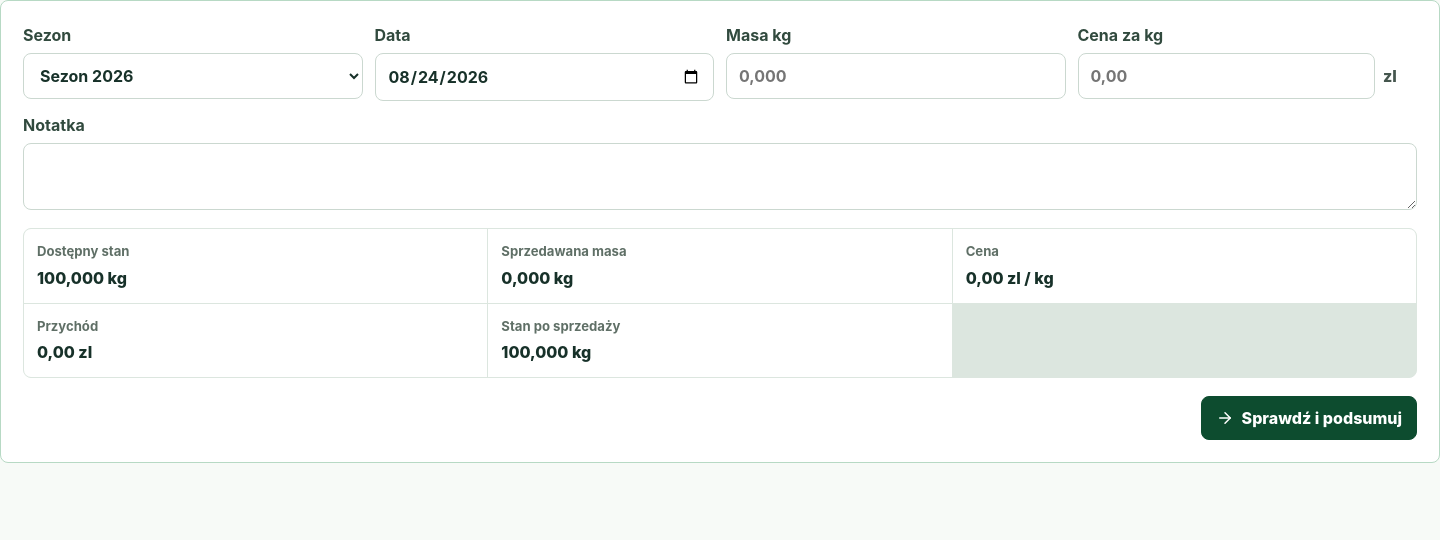
OrdinarySaleForm › shows current and live projected sale values
Expected: the text "100,000 kg" is shown 2 times, [37, 268, 127, 288]; [501, 342, 591, 362]
Expected: the text "0,000 kg" is shown, [501, 268, 573, 288]
Type "12,345" into the field labelled "Masa kg" at (896, 76), box [726, 53, 1066, 99]
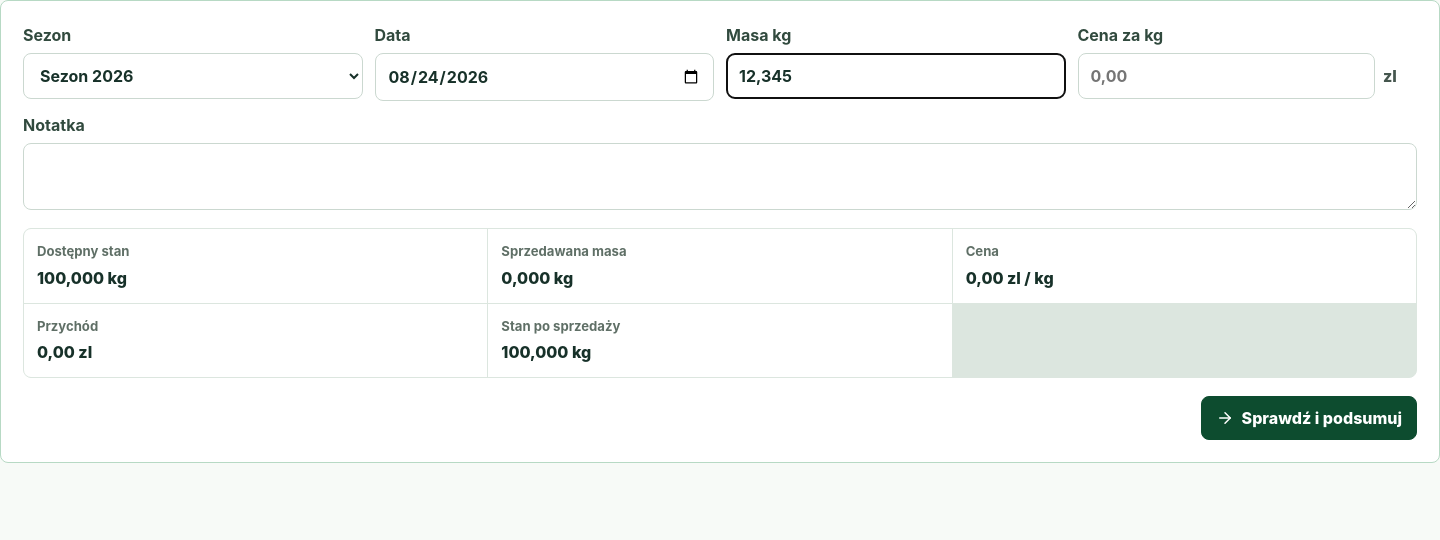
Type "15.50" into the field labelled "Cena za kg" at (1226, 76), box [1078, 53, 1375, 99]
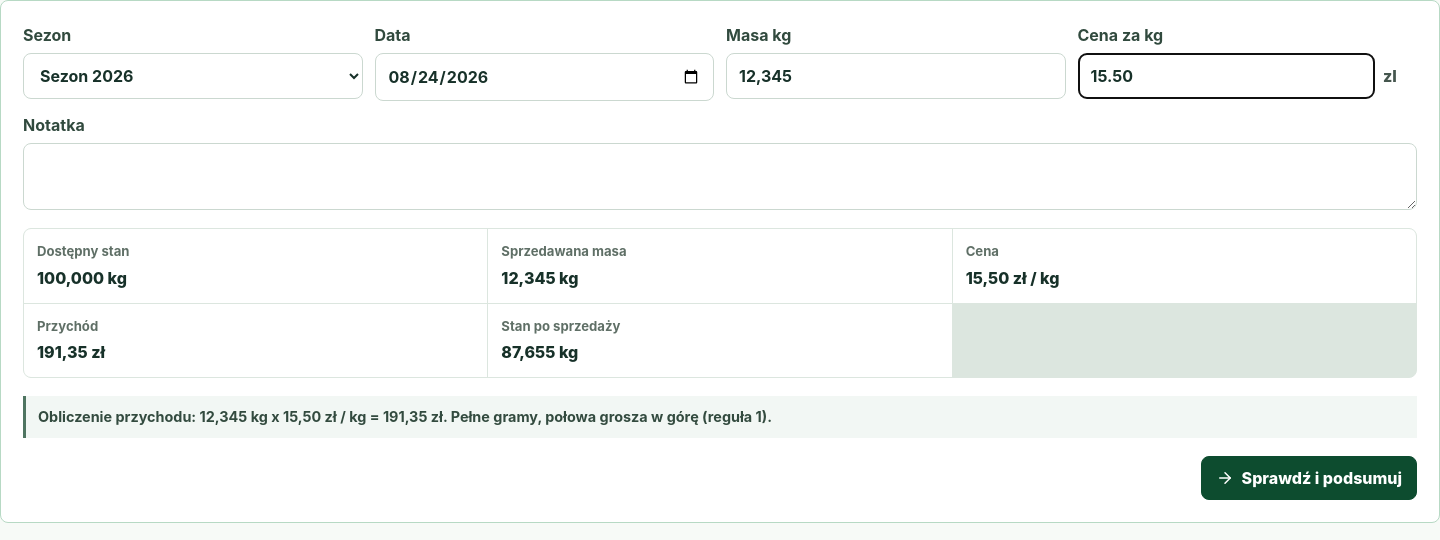
Result: the text "12,345 kg" is shown at [501, 268, 578, 288]
Result: the text "15,50 zł / kg" is shown at [966, 268, 1059, 288]
Result: the text "191,35 zł" is shown at [37, 342, 105, 362]
